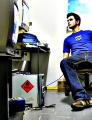male: (65, 13, 81, 31)
